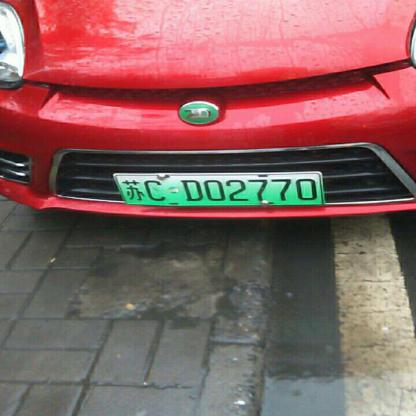lp: (115, 172, 323, 204)
